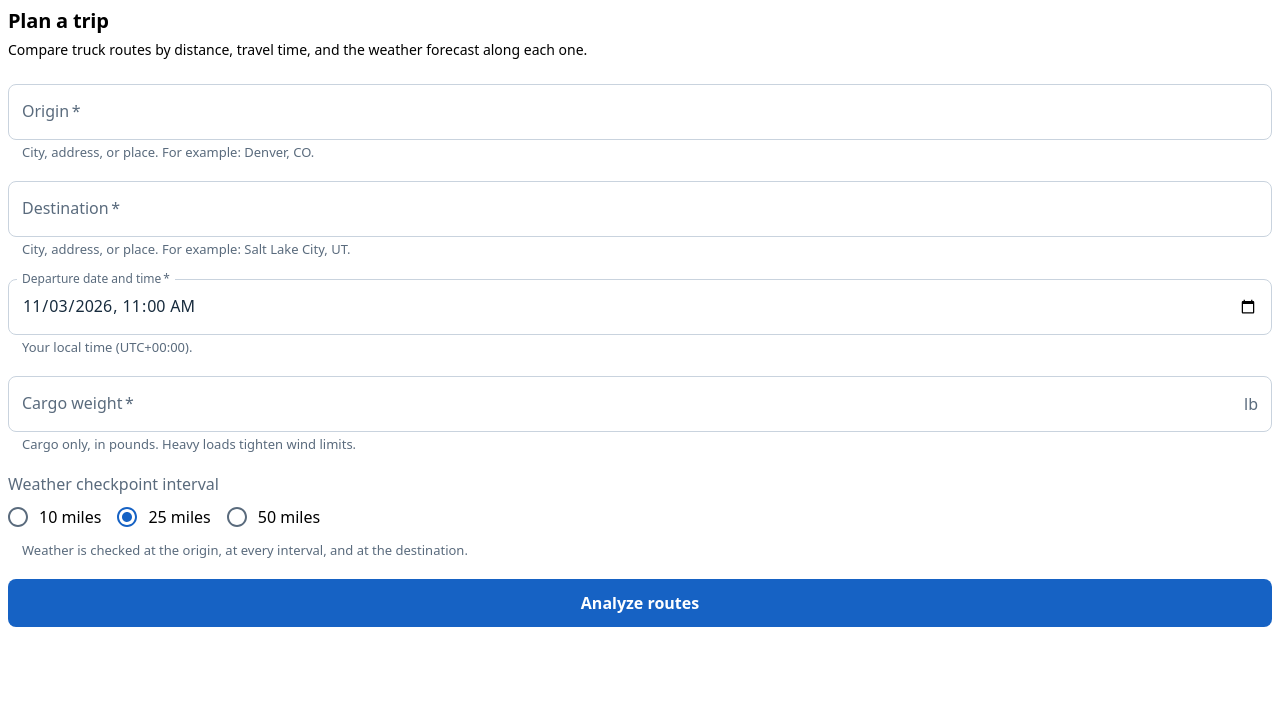
Test case: submitting › clears a field error as soon as that field is edited
Click the button "Analyze routes" at (640, 603), box x1=8 y1=579 x2=1272 y2=627
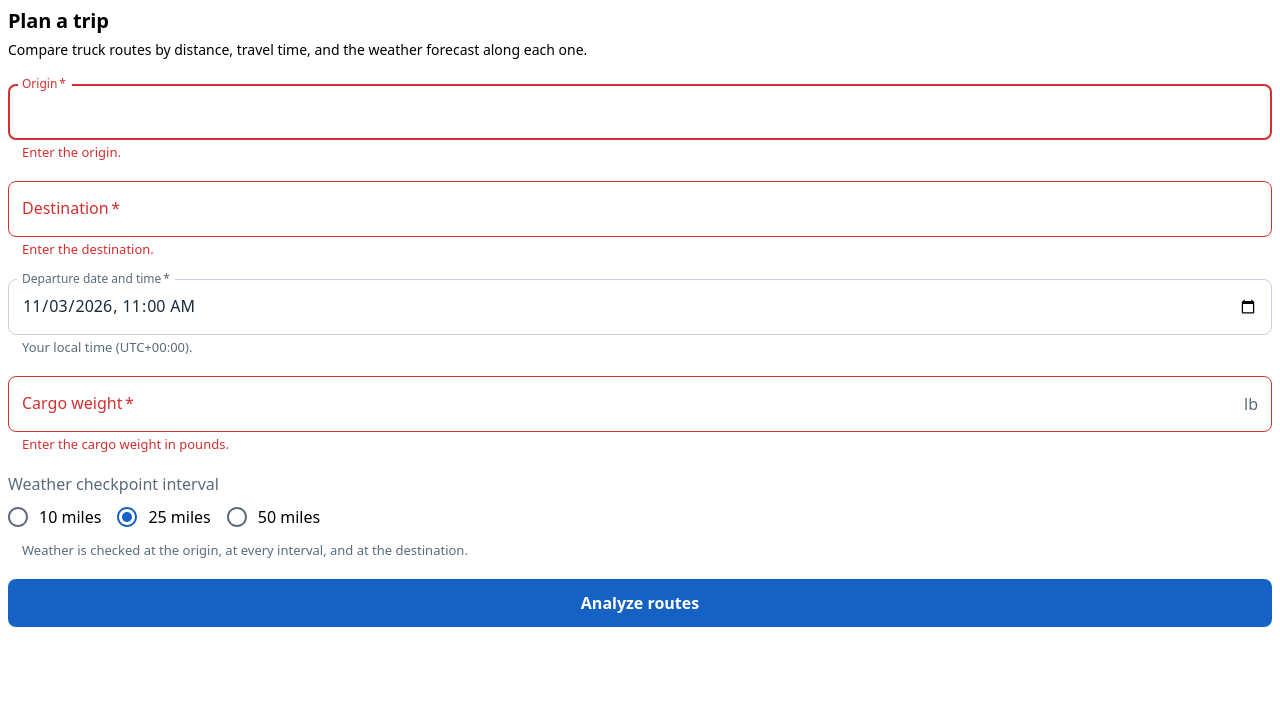
Type "D" into the field labelled "Origin *" at (640, 112), box x1=8 y1=84 x2=1272 y2=140
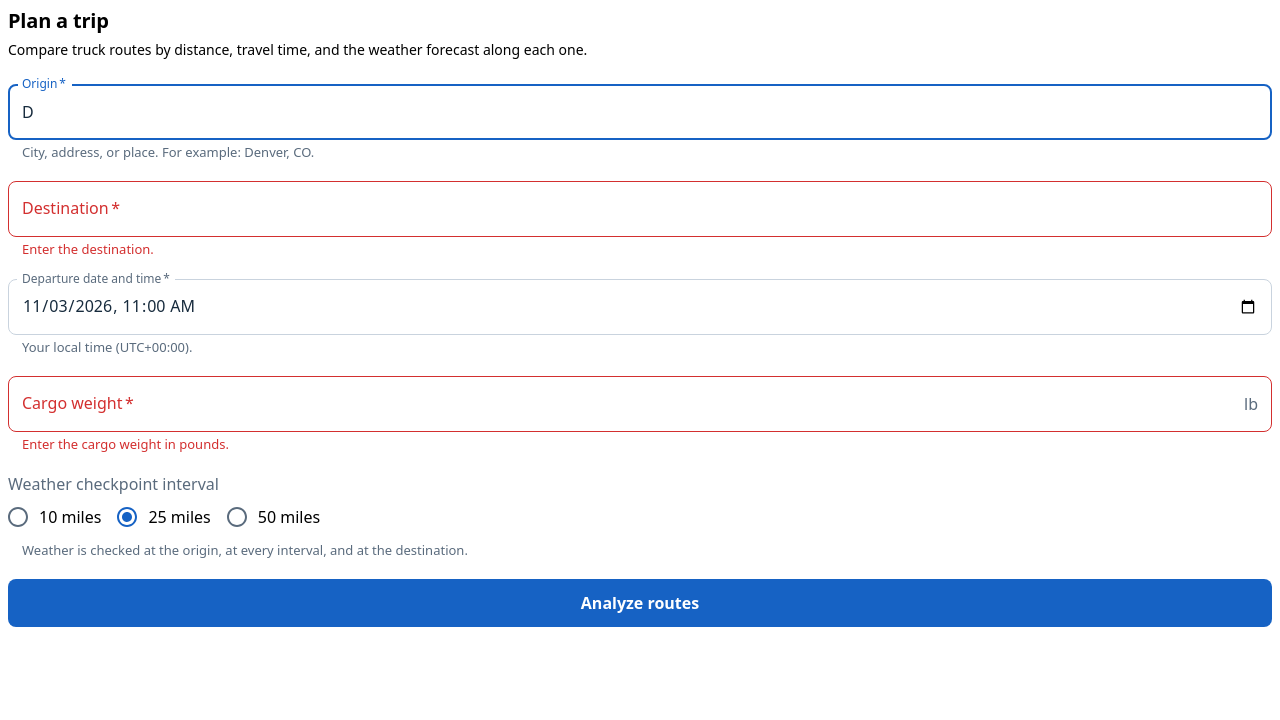
Expected: the text "Enter the destination." is shown, x1=22 y1=240 x2=154 y2=258
Expected: the text "Enter the origin." is gone
